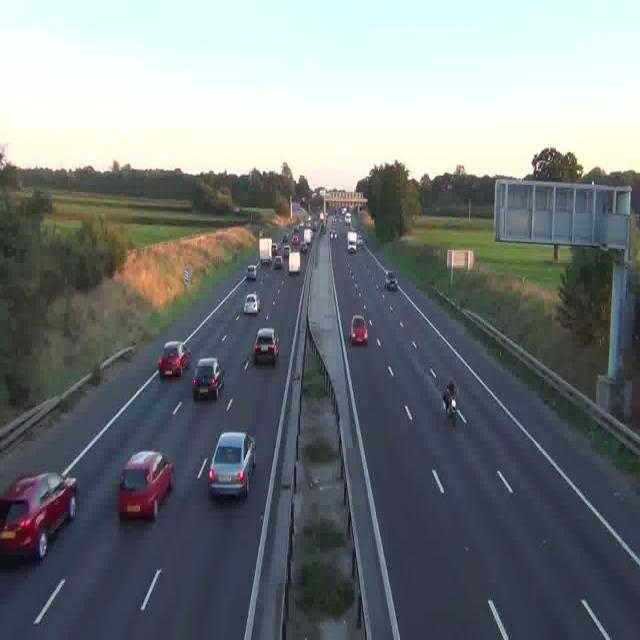car: (0, 472, 78, 559), (118, 451, 174, 518), (208, 431, 256, 498), (192, 357, 224, 400), (158, 341, 188, 378), (253, 329, 277, 364), (442, 378, 460, 421), (350, 316, 368, 344), (243, 292, 260, 314), (386, 270, 398, 291), (245, 263, 258, 280), (274, 253, 284, 270), (329, 230, 336, 241)
truck: (260, 236, 276, 264), (346, 228, 358, 250), (289, 252, 301, 273), (303, 226, 313, 248)
